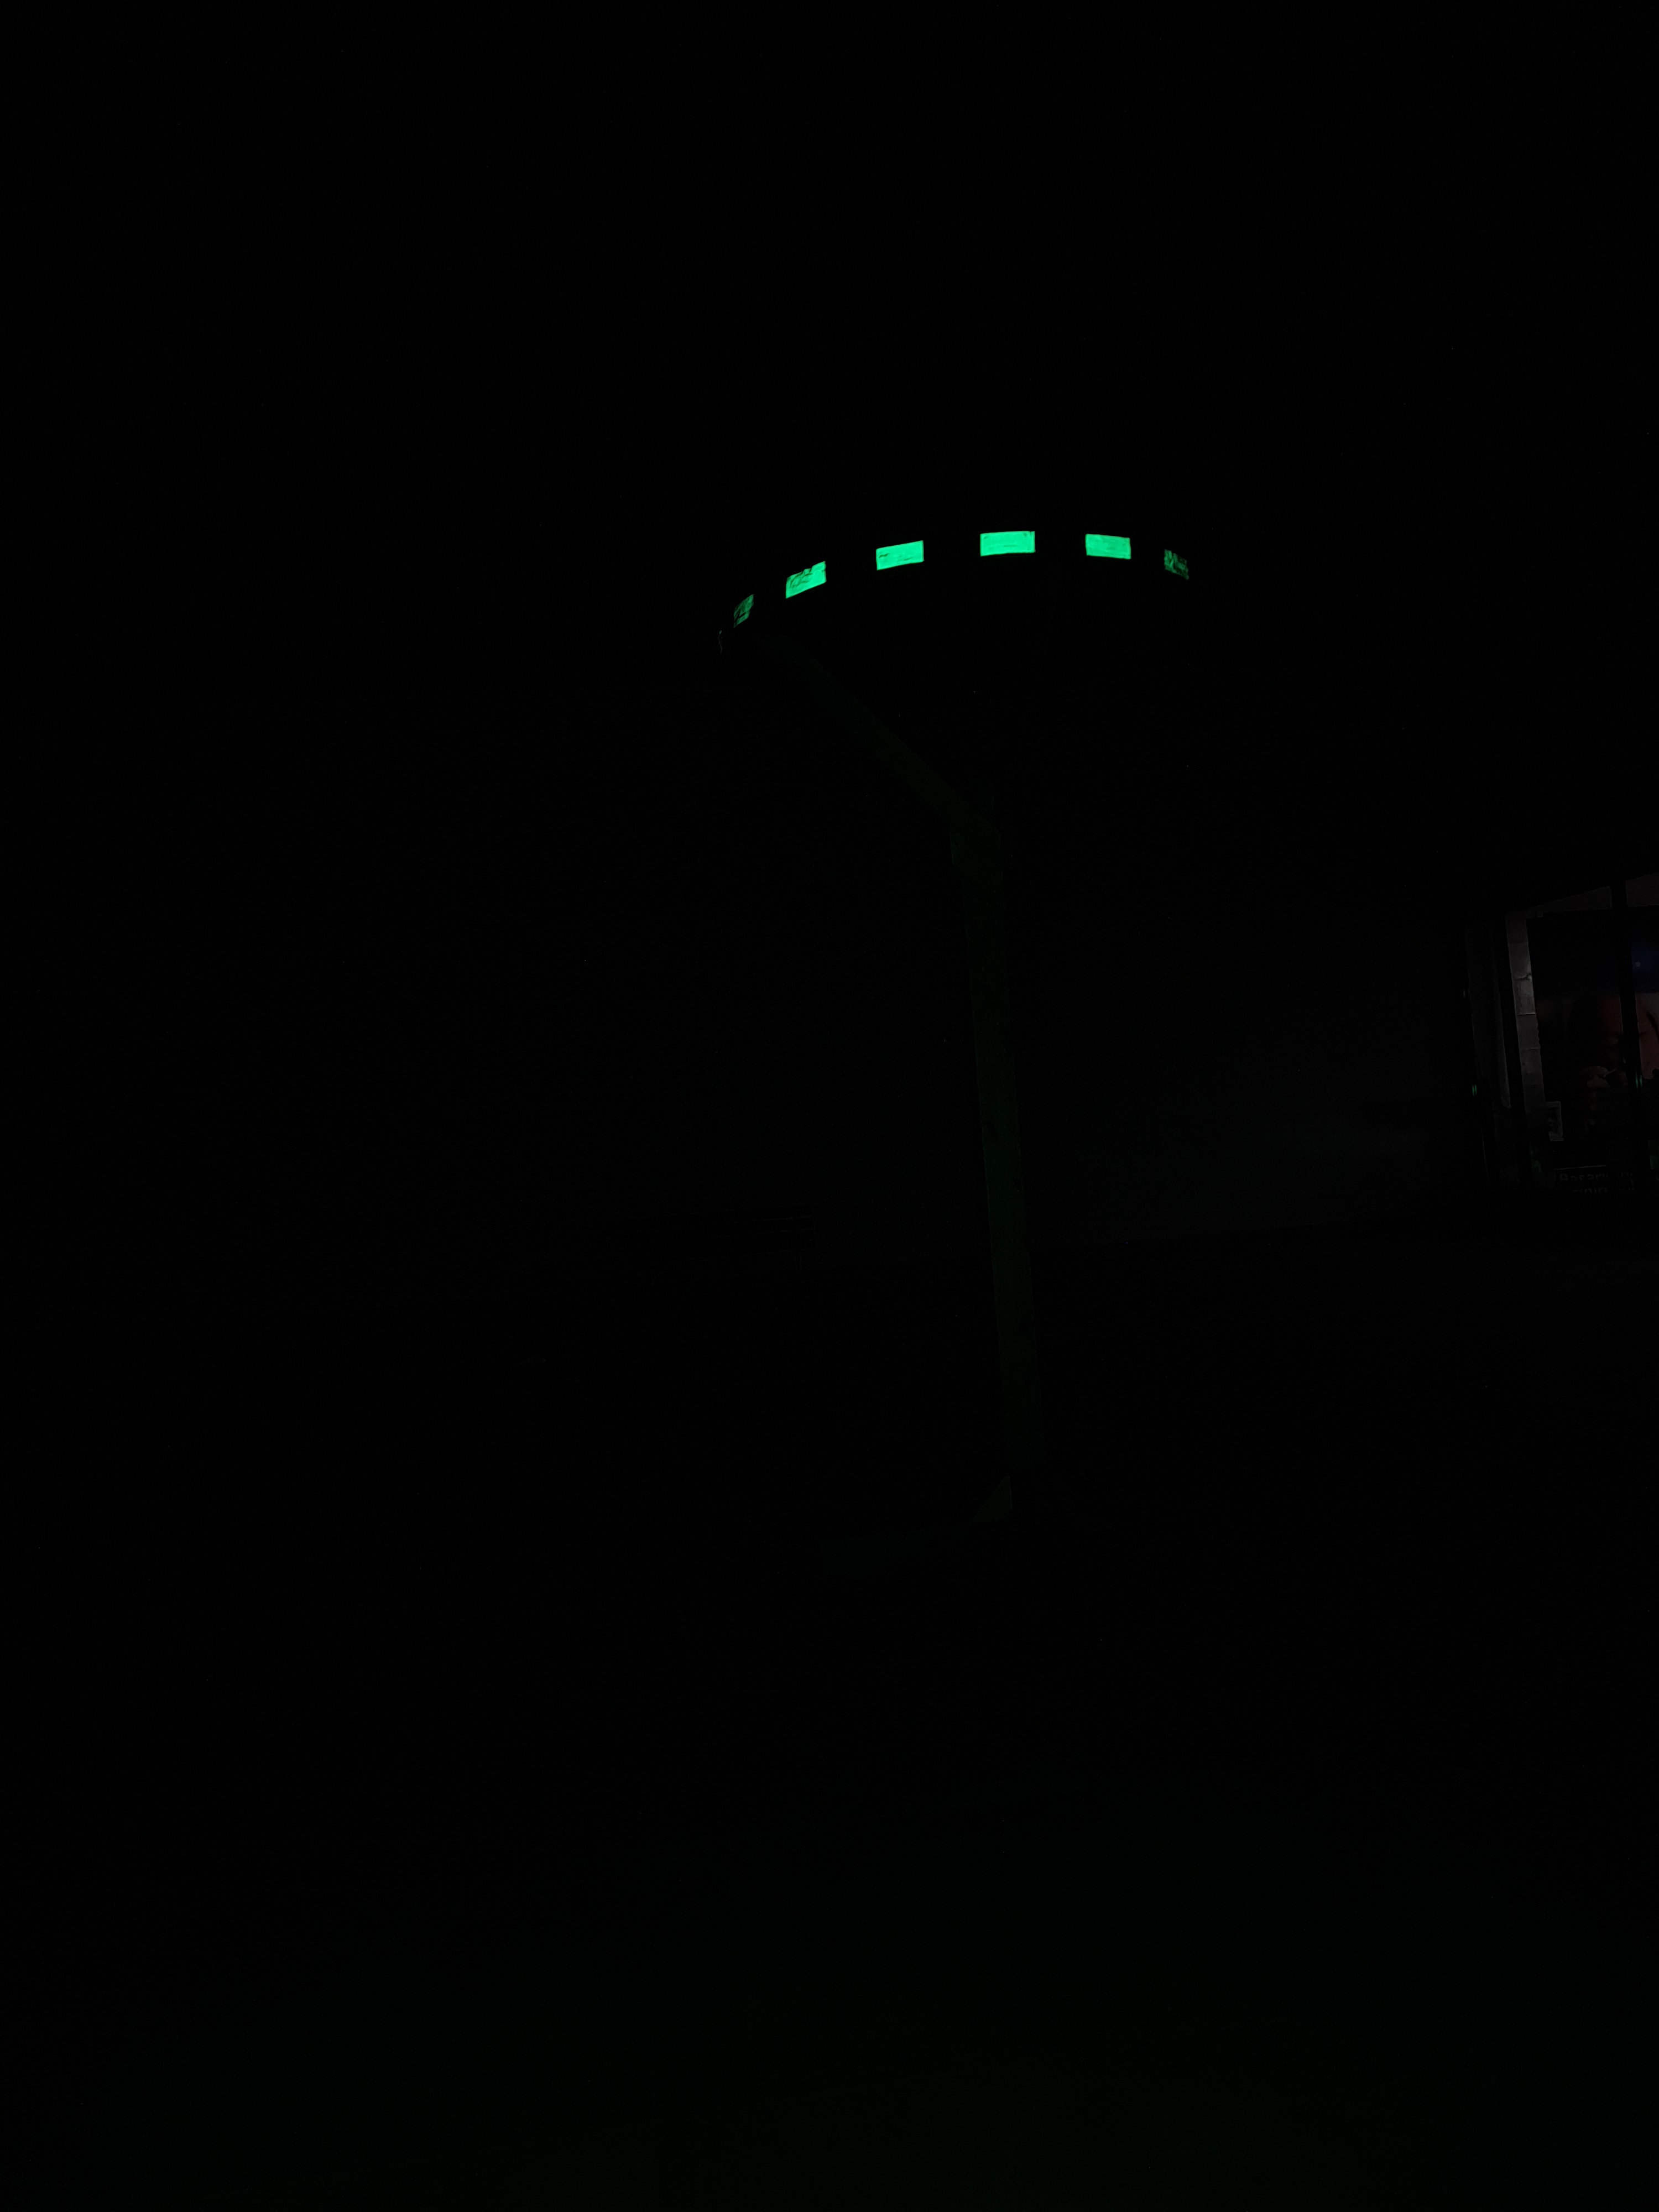hoop: (708, 502, 1222, 650)
